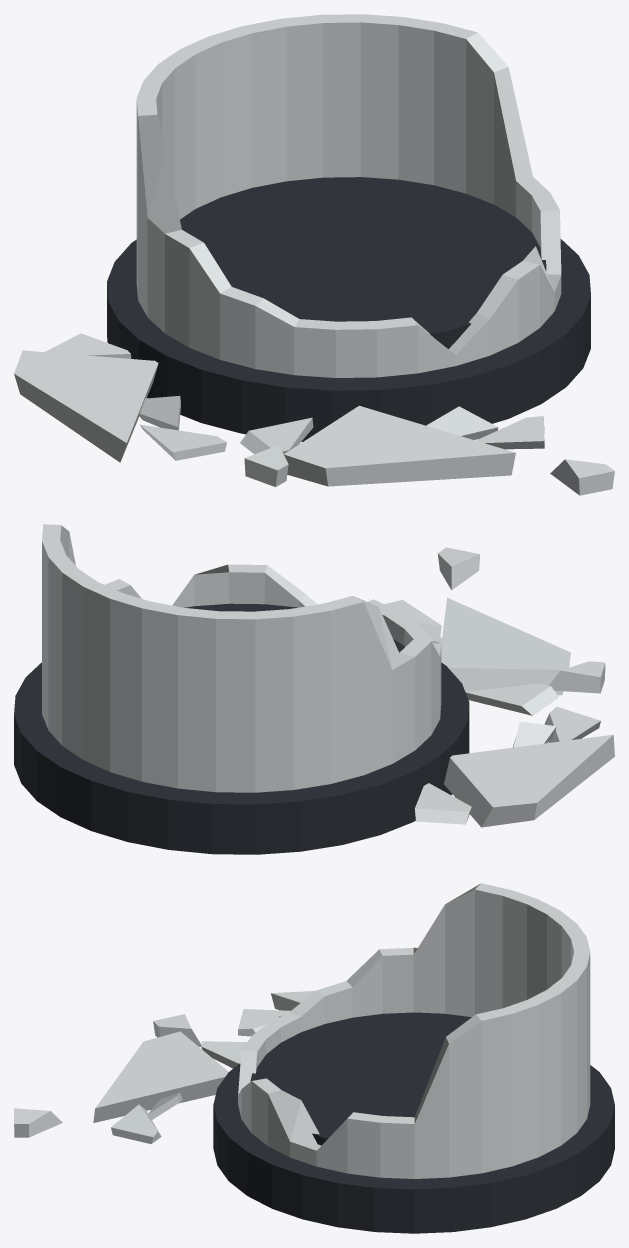
3 views of the same model, one above another, from view 1: azimuth 30°, elevation 25°; view 2: azimuth 150°, elevation 25°; view 3: azimuth 270°, elevation 25° (orthographic). The views are drawn at different scales.
Visible parts, largest first — view 1: Cylinder.003, Cylinder.001, Cylinder.002; view 2: Cylinder.003, Cylinder.002, Cylinder.001; view 3: Cylinder.003, Cylinder.002, Cylinder.001.
Boxes of the visible parts, left/top/right/bottom form: Cylinder.003: left=14, top=14, right=614, bottom=495; Cylinder.001: left=180, top=177, right=546, bottom=348; Cylinder.002: left=107, top=239, right=590, bottom=441; Cylinder.003: left=42, top=524, right=614, bottom=827; Cylinder.002: left=14, top=662, right=469, bottom=854; Cylinder.001: left=184, top=603, right=404, bottom=652; Cylinder.003: left=14, top=883, right=590, bottom=1178; Cylinder.002: left=213, top=1063, right=614, bottom=1233; Cylinder.001: left=250, top=1012, right=471, bottom=1145.
Size of the model in its own units: 2.54 by 1.08 by 2.99.
2 materials, 2 textured.
